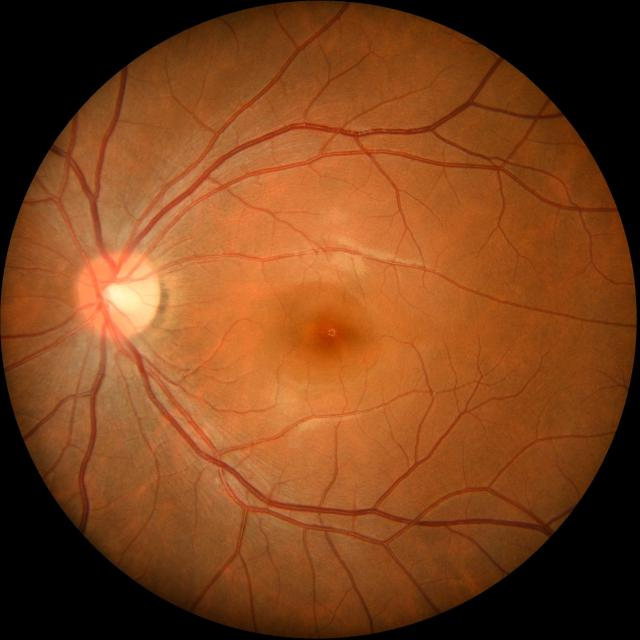OC: (101, 278, 140, 318)
OD: (76, 249, 158, 340)
